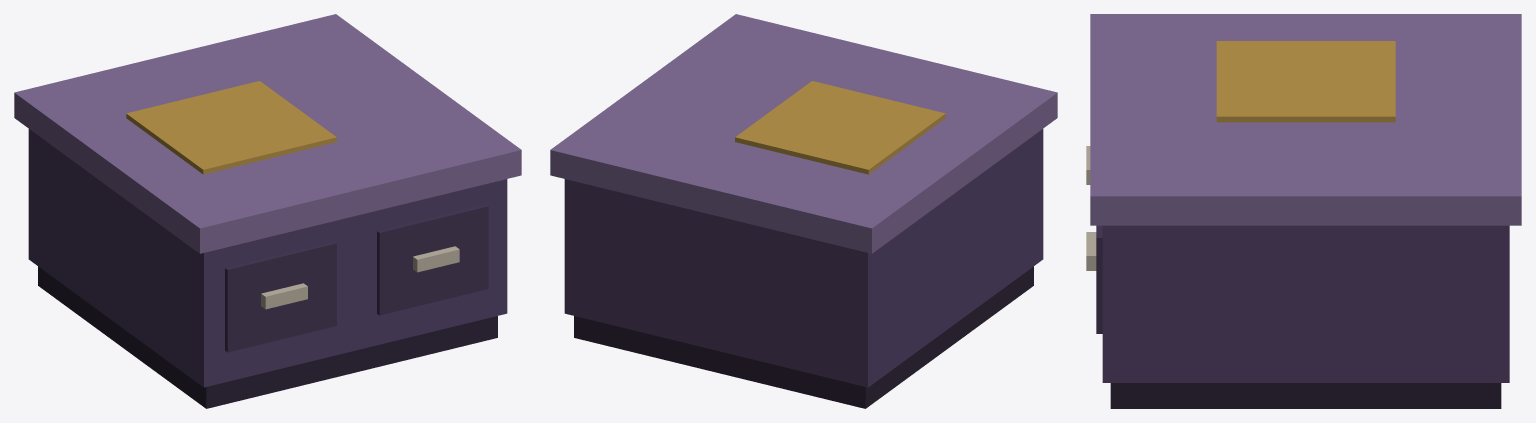
The model's file is k_mire_hatch.glb.
The picture shows the model from 3 angles, left to right: view 1: azimuth 30°, elevation 25°; view 2: azimuth 150°, elevation 25°; view 3: azimuth 270°, elevation 25°; orthographic projection. The views are drawn at different scales.
Visible parts, largest first — view 1: piece; view 2: piece; view 3: piece.
Part boxes in pixels (<box>): piece: <box>14,14,521,408</box>; piece: <box>550,14,1057,408</box>; piece: <box>1086,14,1521,408</box>.
Bounding box in the file's own units: 1.06 × 0.615 × 1.07.
